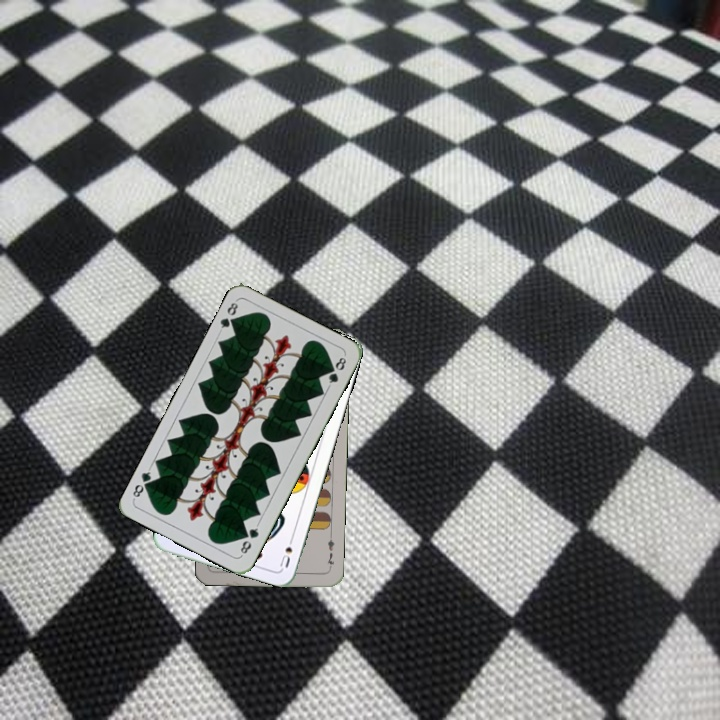E7: (323, 532, 337, 572)
G8: (236, 520, 261, 558), (215, 297, 240, 335)
SU: (276, 531, 296, 570)
